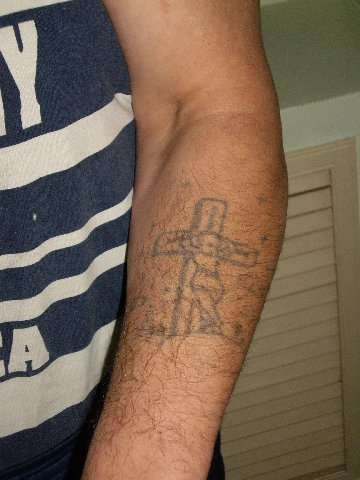tatu9_krest: (153, 189, 250, 335)
